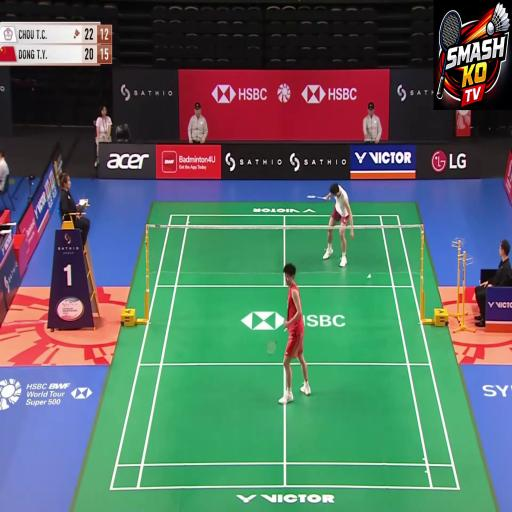player: (262, 244, 306, 424), (323, 181, 359, 292)
